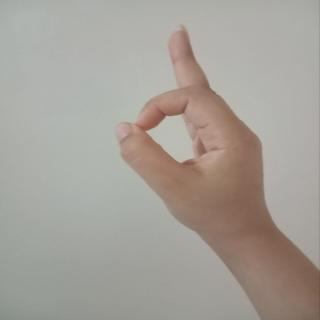Space: (110, 20, 275, 255)
